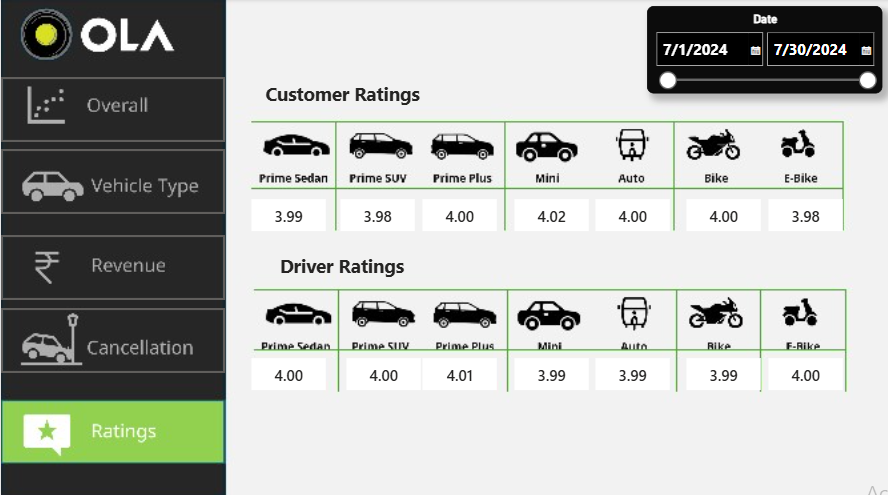

Layout of this report page (visuals, bound fields, positions):
{"tool":"powerbi","page":{"name":"Ratings","canvas":[1280,720],"ordinal":4},"visuals":[{"type":"actionButton","box":[0,339.8,322.6,93.6],"z":0},{"type":"actionButton","box":[0,445,322.6,93.6],"z":1000},{"type":"actionButton","box":[0,216,322.6,93.6],"z":2000},{"type":"actionButton","box":[0,112.3,322.6,93.6],"z":3000},{"type":"cardVisual","fields":{"Data":["Avg(July.Customer_Rating)"]},"box":[356.1,282.2,117.6,57.1],"z":4000},{"type":"textbox","box":[356.1,112.5,272.1,47],"z":5000},{"type":"textbox","box":[366.2,359.5,250.3,52.1],"z":6000},{"type":"cardVisual","fields":{"Data":["Avg(July.Customer_Rating)"]},"box":[601.4,282.2,117.6,57.1],"z":7000},{"type":"cardVisual","fields":{"Data":["Avg(July.Customer_Rating)"]},"box":[483.8,282.2,117.6,57.1],"z":8000},{"type":"cardVisual","fields":{"Data":["Avg(July.Customer_Rating)"]},"box":[851.7,282.2,117.6,57.1],"z":9000},{"type":"cardVisual","fields":{"Data":["Avg(July.Customer_Rating)"]},"box":[734.1,282.2,117.6,57.1],"z":10000},{"type":"cardVisual","fields":{"Data":["Avg(July.Customer_Rating)"]},"box":[1100.3,282.2,117.6,57.1],"z":11000},{"type":"cardVisual","fields":{"Data":["Avg(July.Customer_Rating)"]},"box":[982.7,282.2,117.6,57.1],"z":12000},{"type":"cardVisual","fields":{"Data":["Avg(July.Driver_Ratings)"]},"box":[356.1,510.7,117.6,57.1],"z":13000},{"type":"cardVisual","fields":{"Data":["Avg(July.Driver_Ratings)"]},"box":[492.2,510.7,117.6,57.1],"z":14000},{"type":"cardVisual","fields":{"Data":["Avg(July.Driver_Ratings)"]},"box":[601.4,510.7,117.6,57.1],"z":15000},{"type":"cardVisual","fields":{"Data":["Avg(July.Driver_Ratings)"]},"box":[734.1,510.7,117.6,57.1],"z":16000},{"type":"cardVisual","fields":{"Data":["Avg(July.Driver_Ratings)"]},"box":[851.7,510.7,117.6,57.1],"z":17000},{"type":"cardVisual","fields":{"Data":["Avg(July.Driver_Ratings)"]},"box":[982.7,510.7,117.6,57.1],"z":18000},{"type":"cardVisual","fields":{"Data":["Avg(July.Driver_Ratings)"]},"box":[1100.3,510.7,117.6,57.1],"z":19000},{"type":"slicer","title":"Date","fields":{"Values":["July.Date"]},"box":[930.6,10.1,339.3,126],"z":20000}]}

Visuals, with their boxes on the page's 1280x720 design canvas (x1, y1, x2, y2). These are canvas units, not pixel positions in the 888x495 screenshot, which may show the page scaled, cropped or inside an application window:
actionButton: {"x1": 0, "y1": 340, "x2": 323, "y2": 433}
actionButton: {"x1": 0, "y1": 445, "x2": 323, "y2": 539}
actionButton: {"x1": 0, "y1": 216, "x2": 323, "y2": 310}
actionButton: {"x1": 0, "y1": 112, "x2": 323, "y2": 206}
cardVisual - Avg(July.Customer_Rating): {"x1": 356, "y1": 282, "x2": 474, "y2": 339}
textbox: {"x1": 356, "y1": 112, "x2": 628, "y2": 160}
textbox: {"x1": 366, "y1": 360, "x2": 616, "y2": 412}
cardVisual - Avg(July.Customer_Rating): {"x1": 601, "y1": 282, "x2": 719, "y2": 339}
cardVisual - Avg(July.Customer_Rating): {"x1": 484, "y1": 282, "x2": 601, "y2": 339}
cardVisual - Avg(July.Customer_Rating): {"x1": 852, "y1": 282, "x2": 969, "y2": 339}
cardVisual - Avg(July.Customer_Rating): {"x1": 734, "y1": 282, "x2": 852, "y2": 339}
cardVisual - Avg(July.Customer_Rating): {"x1": 1100, "y1": 282, "x2": 1218, "y2": 339}
cardVisual - Avg(July.Customer_Rating): {"x1": 983, "y1": 282, "x2": 1100, "y2": 339}
cardVisual - Avg(July.Driver_Ratings): {"x1": 356, "y1": 511, "x2": 474, "y2": 568}
cardVisual - Avg(July.Driver_Ratings): {"x1": 492, "y1": 511, "x2": 610, "y2": 568}
cardVisual - Avg(July.Driver_Ratings): {"x1": 601, "y1": 511, "x2": 719, "y2": 568}
cardVisual - Avg(July.Driver_Ratings): {"x1": 734, "y1": 511, "x2": 852, "y2": 568}
cardVisual - Avg(July.Driver_Ratings): {"x1": 852, "y1": 511, "x2": 969, "y2": 568}
cardVisual - Avg(July.Driver_Ratings): {"x1": 983, "y1": 511, "x2": 1100, "y2": 568}
cardVisual - Avg(July.Driver_Ratings): {"x1": 1100, "y1": 511, "x2": 1218, "y2": 568}
"Date" slicer: {"x1": 931, "y1": 10, "x2": 1270, "y2": 136}
